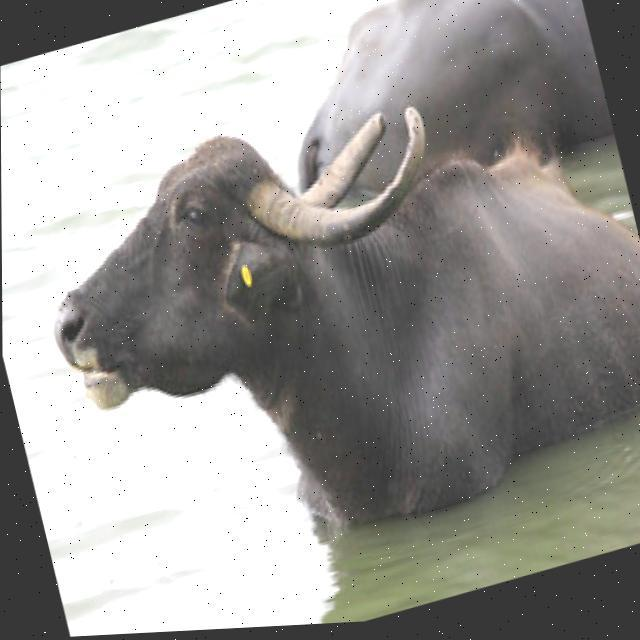Buffalo: (15, 27, 640, 610)
